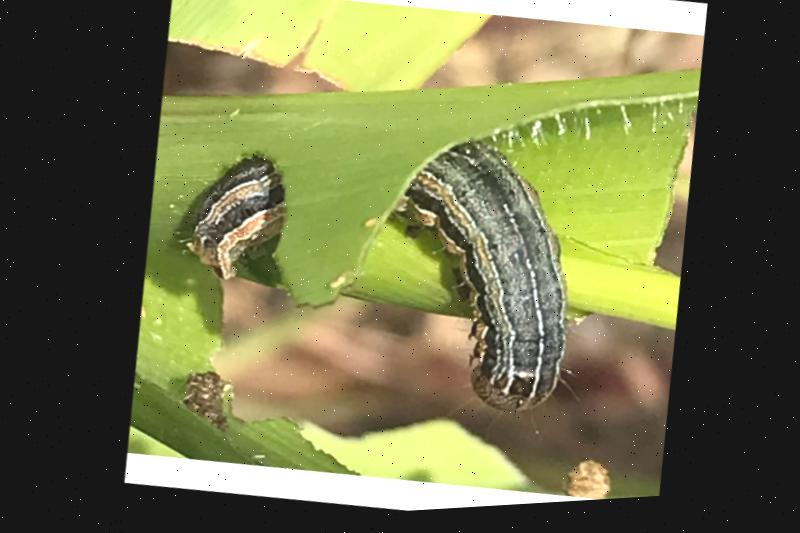fall-armyworm: (183, 126, 563, 416)
